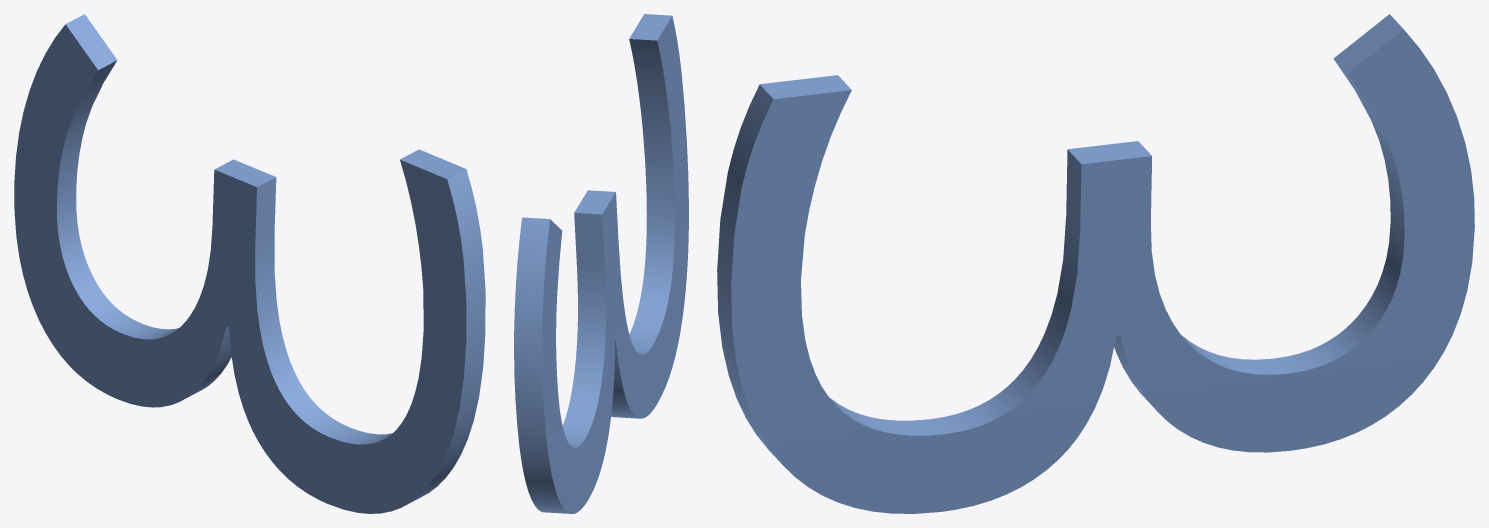
File: New_Number_3.gltf
The picture shows the model from 3 angles, left to right: view 1: azimuth 30°, elevation 25°; view 2: azimuth 150°, elevation 25°; view 3: azimuth 270°, elevation 25°; orthographic projection. The views are drawn at different scales.
Parts seen in each view (by area): view 1: Part 588; view 2: Part 588; view 3: Part 588.
Boxes of the visible parts, box(x1,y1,x2,y2) form: Part 588: box(14, 14, 485, 513); Part 588: box(514, 14, 688, 513); Part 588: box(717, 14, 1474, 513).
Size of the model in its own units: 0.00167 by 0.0033 by 0.00511.
